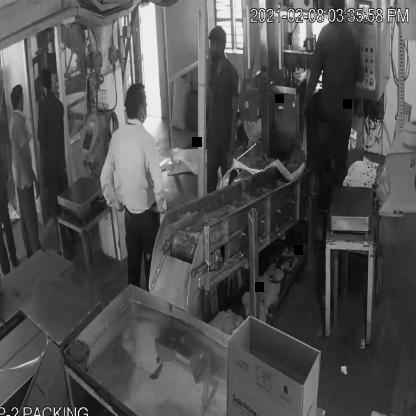no_glove: (134, 138, 169, 224), (98, 140, 129, 226), (226, 62, 244, 190), (303, 44, 325, 132), (19, 134, 43, 205), (205, 76, 221, 159)
